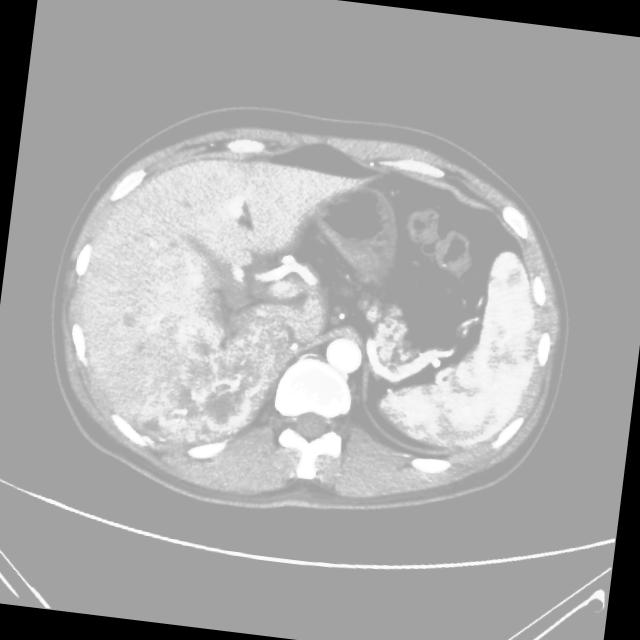TUMOR: (157, 111, 580, 418)
